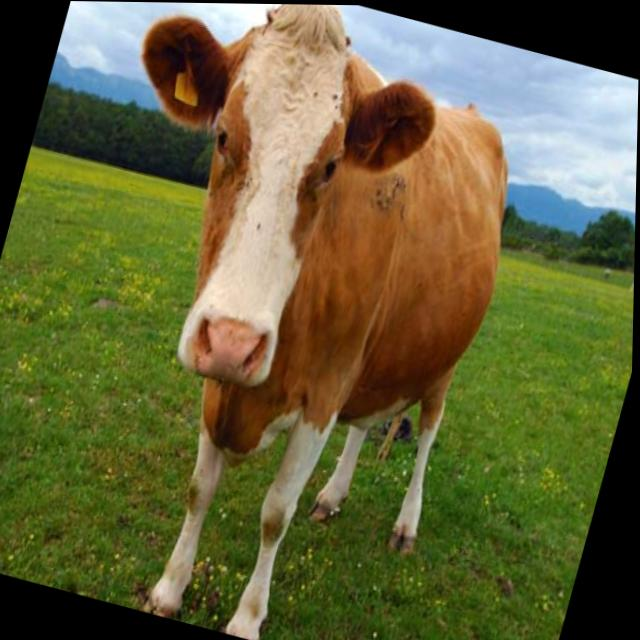cowFace: (59, 1, 461, 426)
